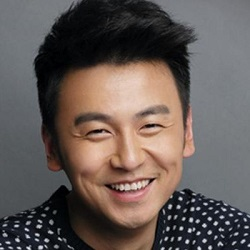unmask: (49, 75, 186, 229)
